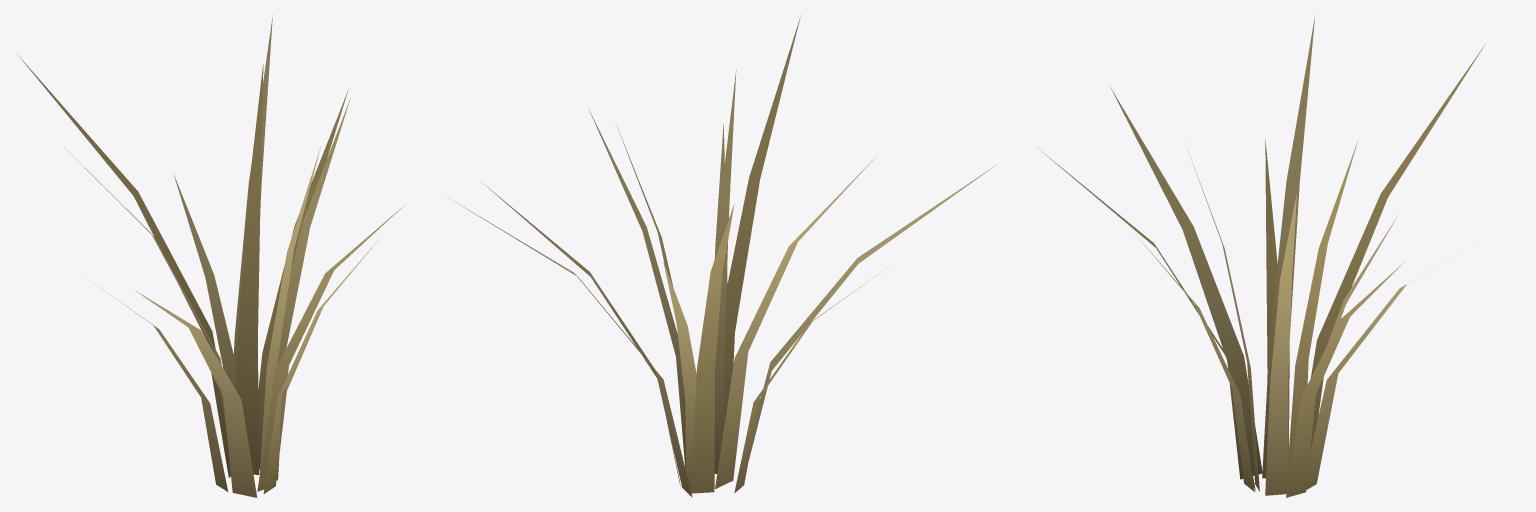
The model's file is grass.tussock.straw.glb.
3 views of the same model, side by side, from view 1: azimuth 30°, elevation 25°; view 2: azimuth 150°, elevation 25°; view 3: azimuth 270°, elevation 25° (orthographic). The views are drawn at different scales.
Parts seen in each view (by area): view 1: grass_tussock_straw; view 2: grass_tussock_straw; view 3: grass_tussock_straw.
Boxes of the visible parts, x1,y1,x2,y2 form: grass_tussock_straw: (15, 15, 405, 497); grass_tussock_straw: (446, 15, 997, 497); grass_tussock_straw: (1038, 15, 1485, 497).
Bounding box in the file's own units: 0.483 × 0.4838 × 0.5632.
